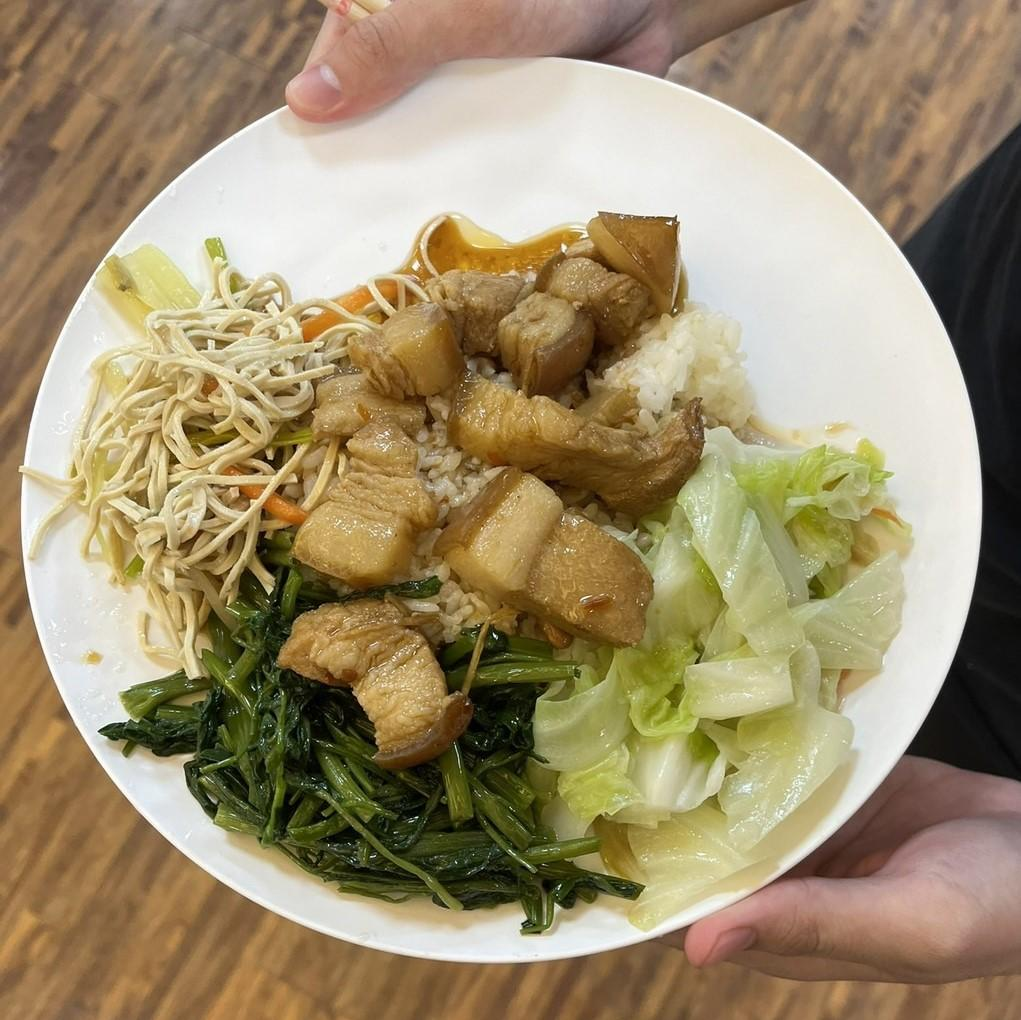big fried chicken leg: (26, 55, 990, 966)
big herbal chicken leg: (318, 301, 748, 646)
braised fish fillet: (546, 428, 910, 902), (130, 588, 550, 910), (62, 253, 316, 618)
braised pork: (285, 205, 700, 743)
